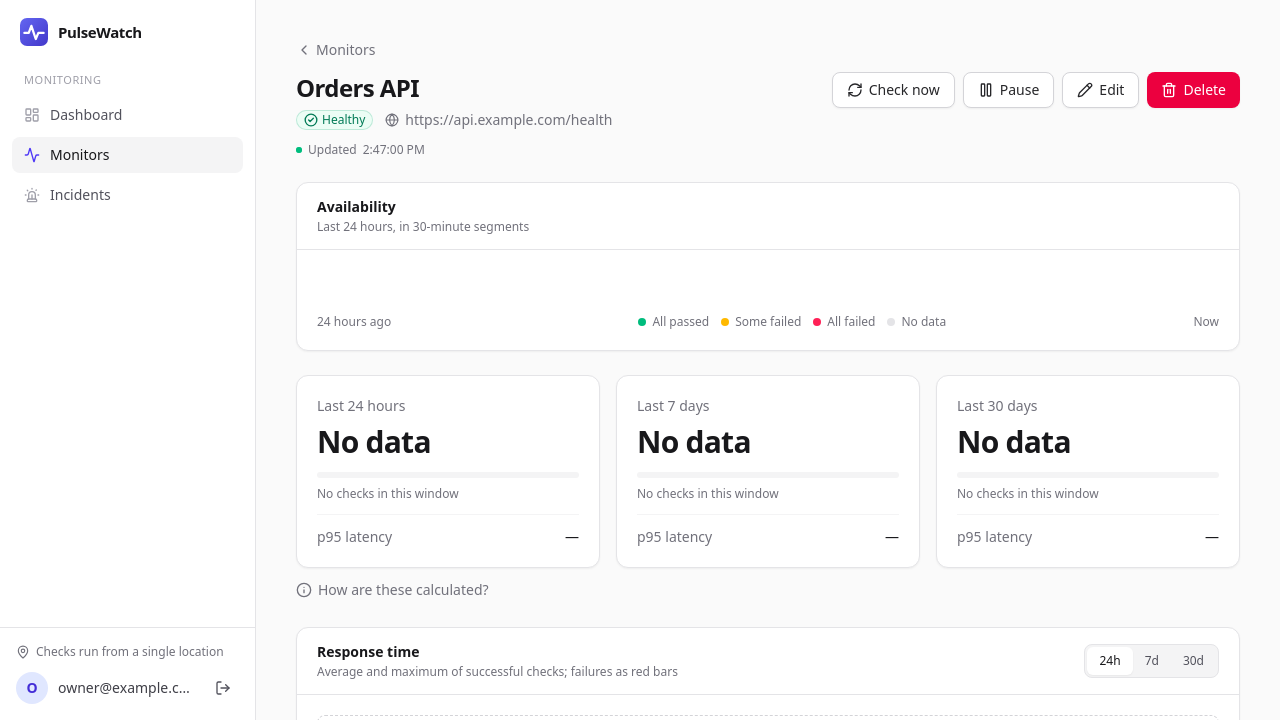
Scenario: monitor detail › explains when a manual check was requested too recently
This screenshot has width=1280, height=720.
Click the button "Check now".
click(893, 90)  # box x1=832 y1=72 x2=955 y2=108
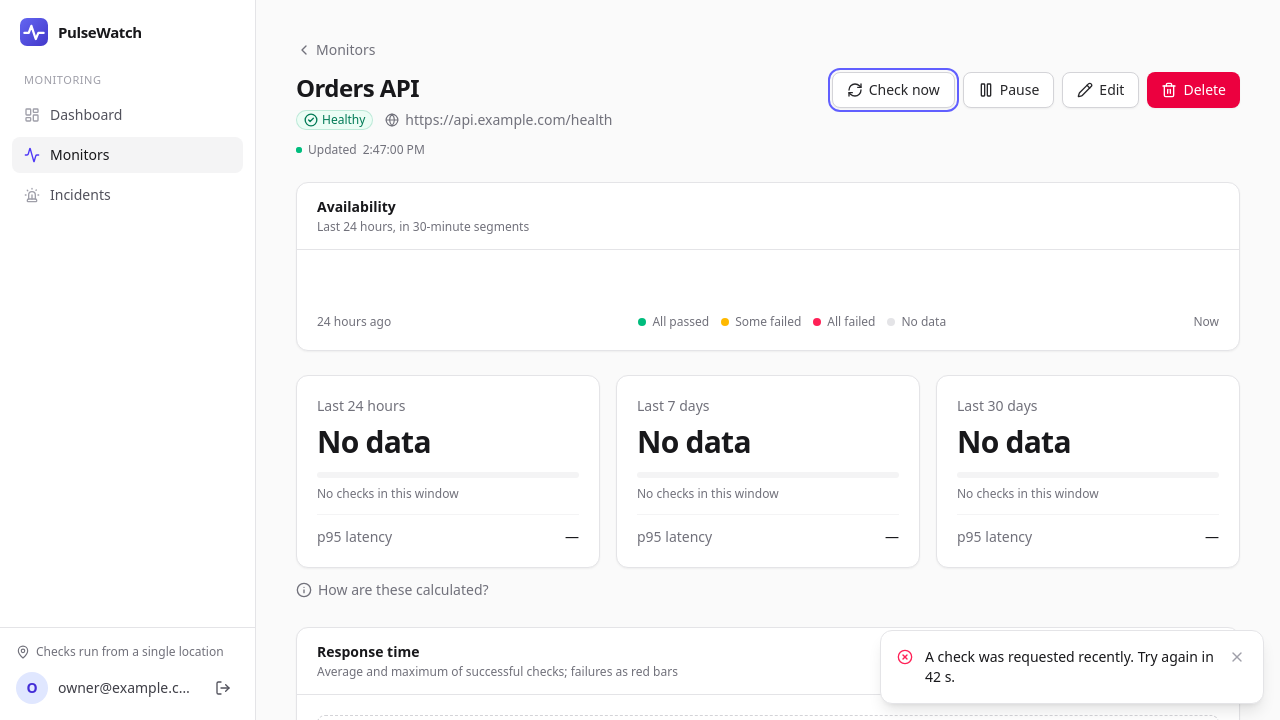
Check: the text "A check was requested recently. Try again in 42 s." is shown, box x1=925 y1=647 x2=1215 y2=687
